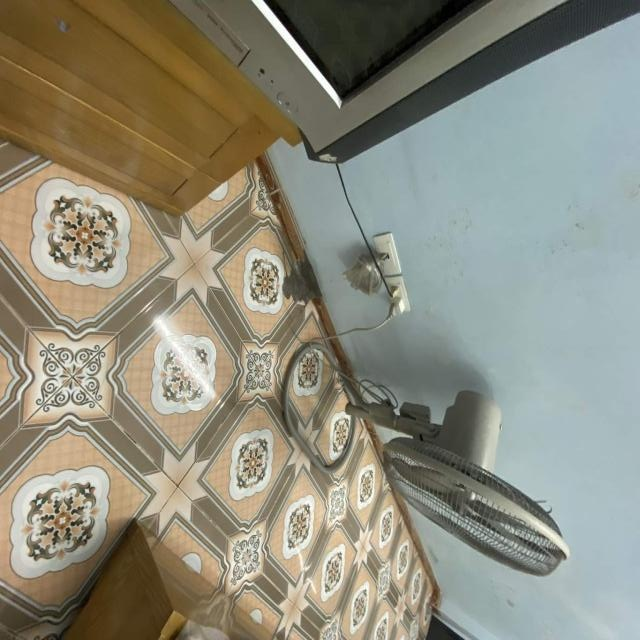outlet: (373, 231, 402, 276), (383, 276, 411, 315)
